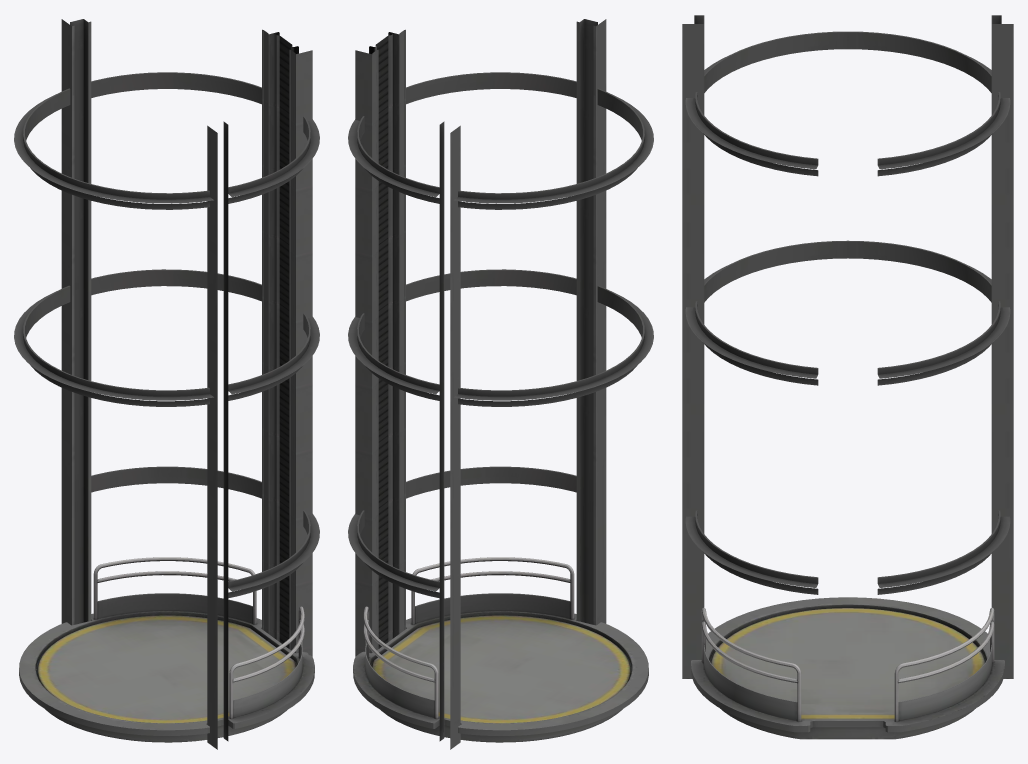
The picture shows the model from 3 angles, left to right: view 1: azimuth 30°, elevation 25°; view 2: azimuth 150°, elevation 25°; view 3: azimuth 270°, elevation 25°; orthographic projection. The views are drawn at different scales.
Parts seen in each view (by area): view 1: body0_model0_lod0_mesh0; view 2: body0_model0_lod0_mesh0; view 3: body0_model0_lod0_mesh0.
Part boxes in pixels (left/top/right/bottom): body0_model0_lod0_mesh0: left=14, top=19, right=319, bottom=749; body0_model0_lod0_mesh0: left=348, top=19, right=653, bottom=749; body0_model0_lod0_mesh0: left=682, top=15, right=1013, bottom=739.
Bounding box in the file's own units: 284 × 638 × 293.
Materials: 1 (1 with a texture image).
